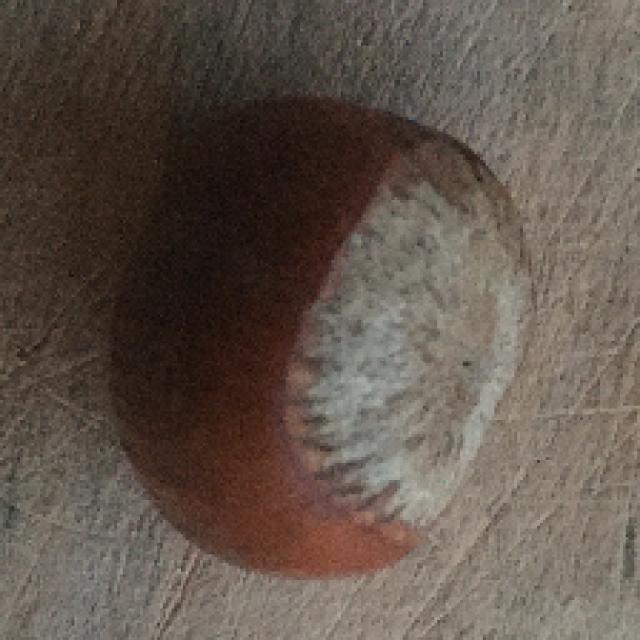qualityHazelnut: (103, 90, 537, 578)
